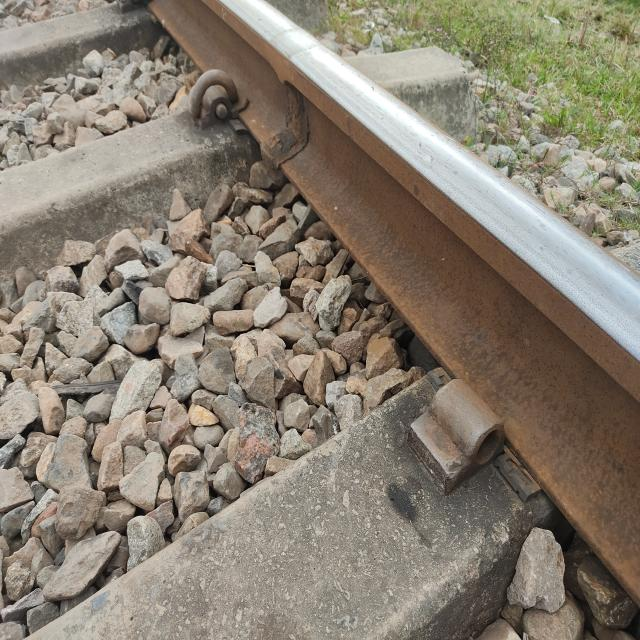fault: (401, 374, 514, 504)
